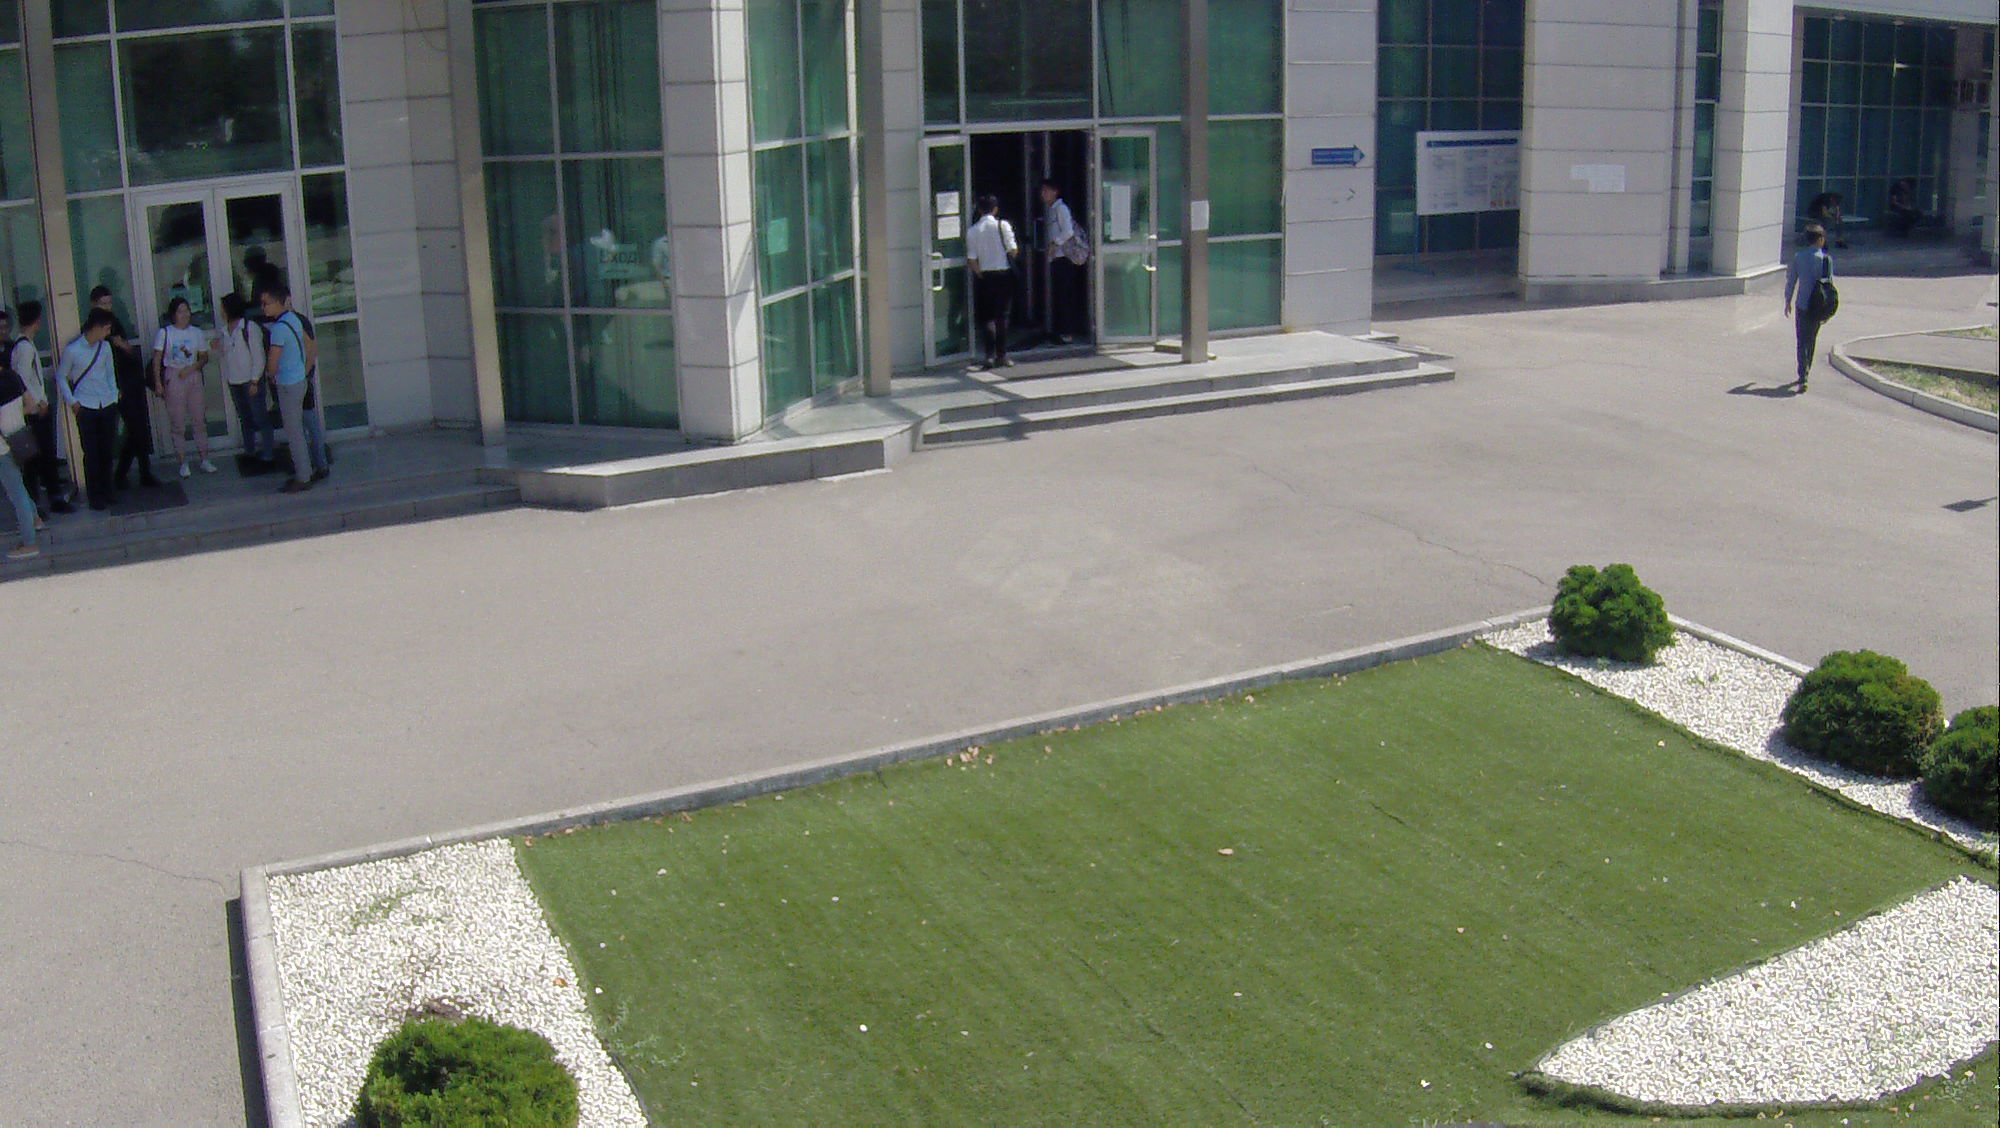person: (1777, 222, 1845, 410), (259, 278, 315, 503), (61, 318, 123, 512), (961, 191, 1024, 378), (154, 295, 214, 479), (216, 290, 265, 492), (1031, 178, 1087, 349), (19, 300, 49, 480)
